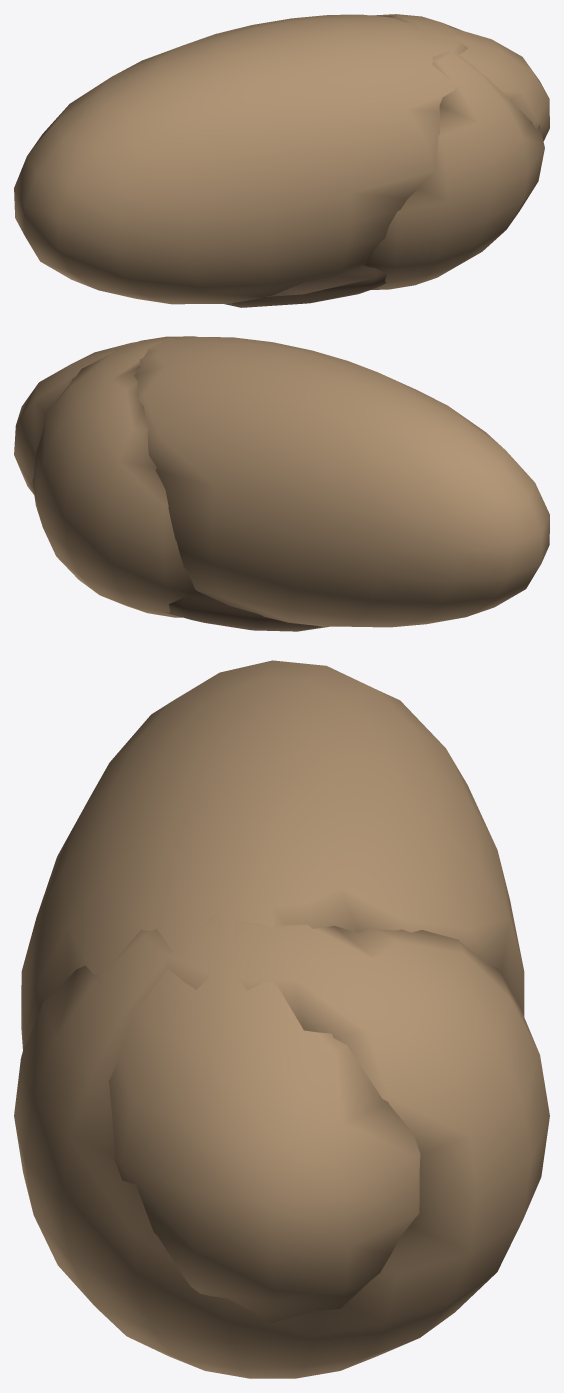
File: dog_body.glb
3 views of the same model, one above another, from view 1: azimuth 30°, elevation 25°; view 2: azimuth 150°, elevation 25°; view 3: azimuth 270°, elevation 25° (orthographic). The views are drawn at different scales.
Visible parts, largest first — view 1: boat_fur, boat_furdark; view 2: boat_fur, boat_furdark; view 3: boat_fur.
Part boxes in pixels (<box>): boat_fur: <box>14,14,549,304</box>; boat_furdark: <box>224,265,386,307</box>; boat_fur: <box>14,336,549,627</box>; boat_furdark: <box>165,591,328,631</box>; boat_fur: <box>14,660,549,1378</box>.
Bounding box in the file's own units: 0.6543 × 0.3196 × 0.3167.
